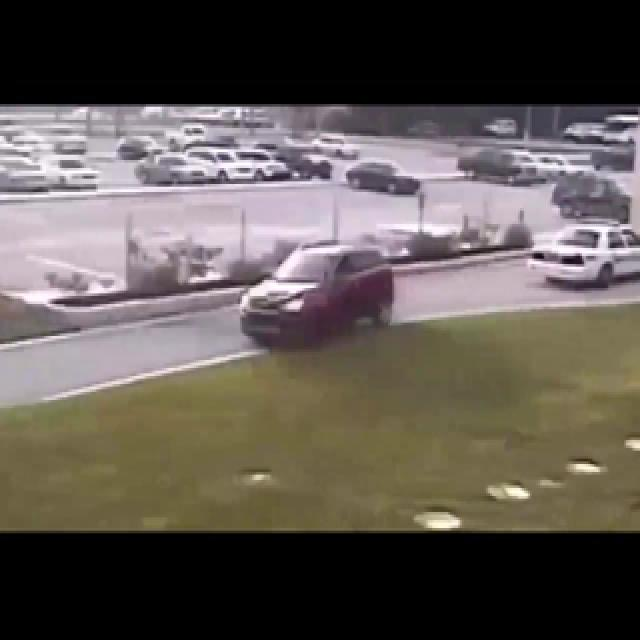arrest: (168, 91, 640, 441)
